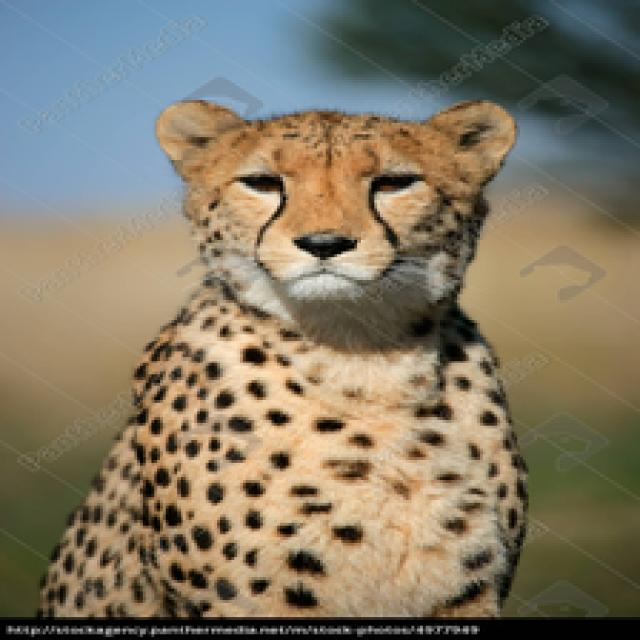cheetah: (31, 60, 541, 614)
